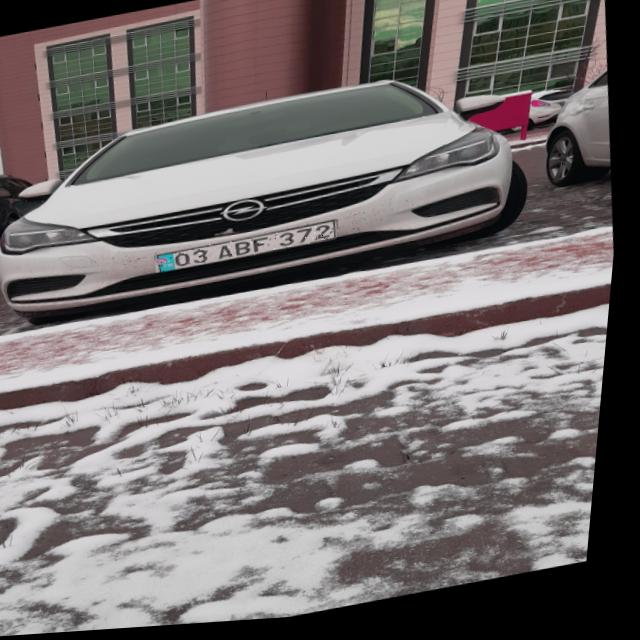license_plate: (159, 225, 342, 276)
